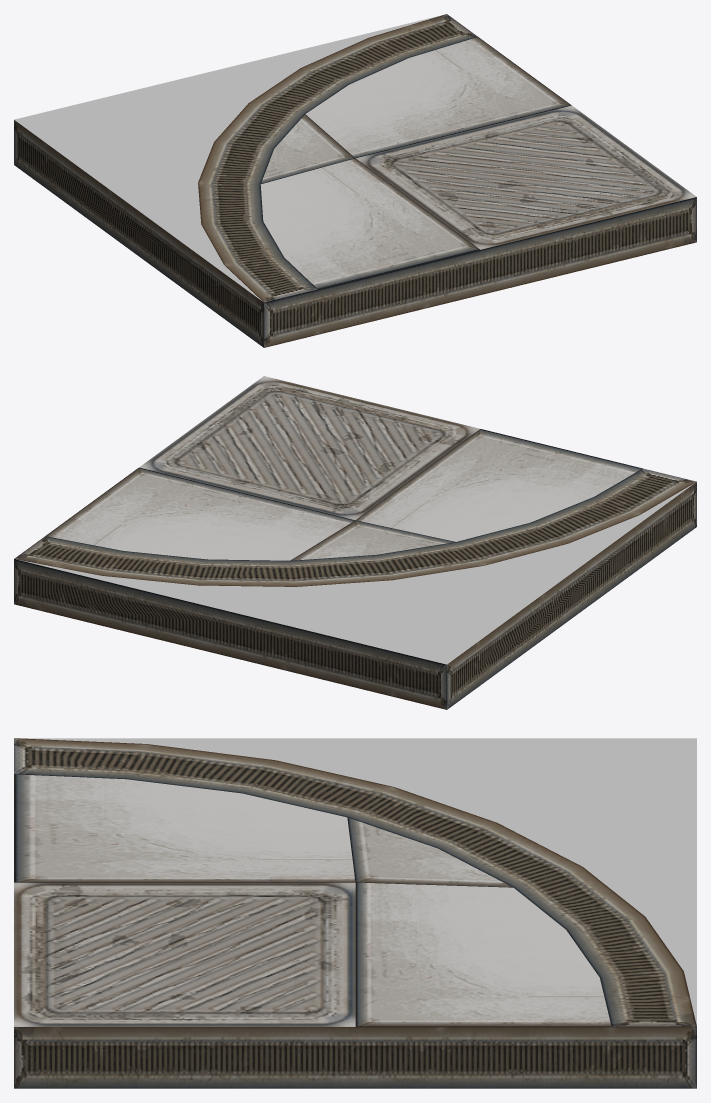
Rendered from scifi_floor_mosaic_7.FBX.
3 views of the same model, one above another, from view 1: azimuth 30°, elevation 25°; view 2: azimuth 150°, elevation 25°; view 3: azimuth 270°, elevation 25° (orthographic). The views are drawn at different scales.
Parts seen in each view (by area): view 1: Plane136; view 2: Plane136; view 3: Plane136.
Boxes of the visible parts, left/top/right/bottom form: Plane136: left=14, top=14, right=696, bottom=347; Plane136: left=14, top=376, right=696, bottom=709; Plane136: left=14, top=738, right=696, bottom=1088.
Bounding box in the file's own units: 254 × 25.4 × 254.
